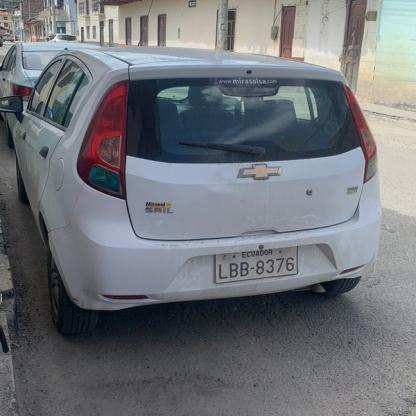Placa: (215, 248, 302, 282)
